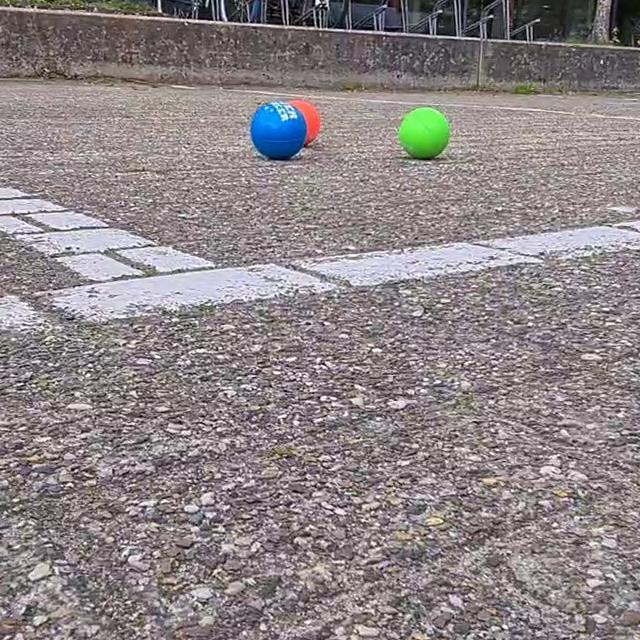ball: (252, 102, 306, 163), (398, 103, 454, 161)
